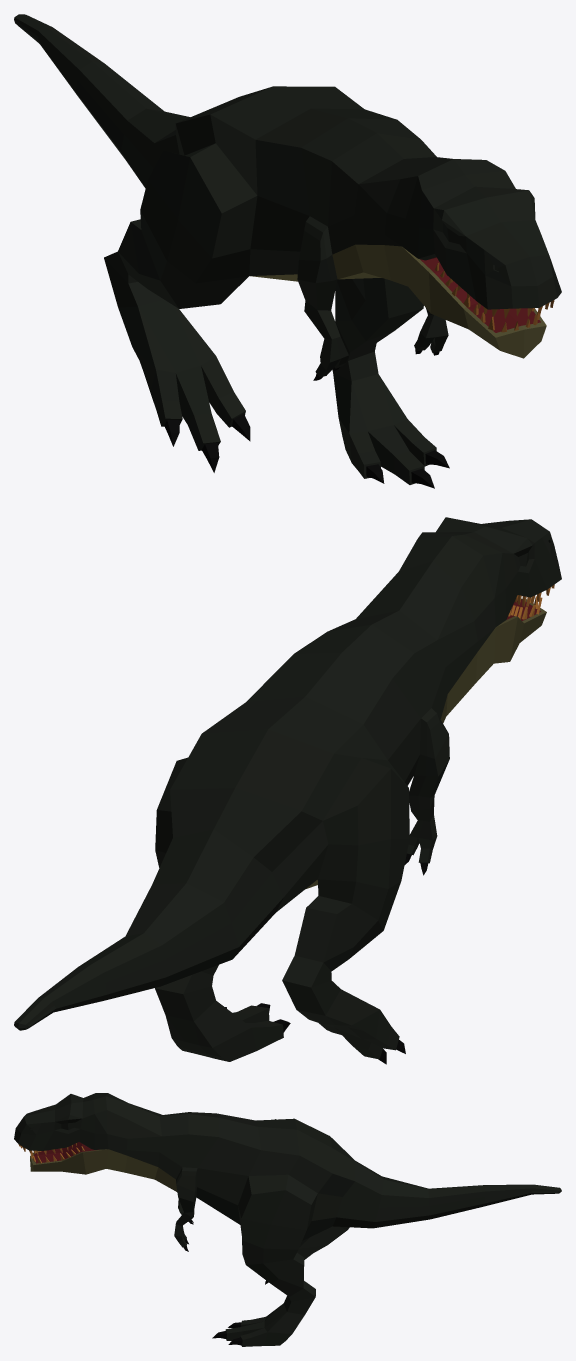
Rendered from Trex_000007.obj.
3 views of the same model, one above another, from view 1: azimuth 30°, elevation 25°; view 2: azimuth 150°, elevation 25°; view 3: azimuth 270°, elevation 25° (orthographic). The views are drawn at different scales.
Visible parts, largest first — view 1: Trex_Cylinder; view 2: Trex_Cylinder; view 3: Trex_Cylinder.
Boxes of the visible parts, x1=… form: Trex_Cylinder: x1=14, y1=14, x2=561, y2=488; Trex_Cylinder: x1=14, y1=517, x2=561, y2=1064; Trex_Cylinder: x1=14, y1=1093, x2=561, y2=1346.
Bounding box in the file's own units: 7.95 × 14 × 31.25.
